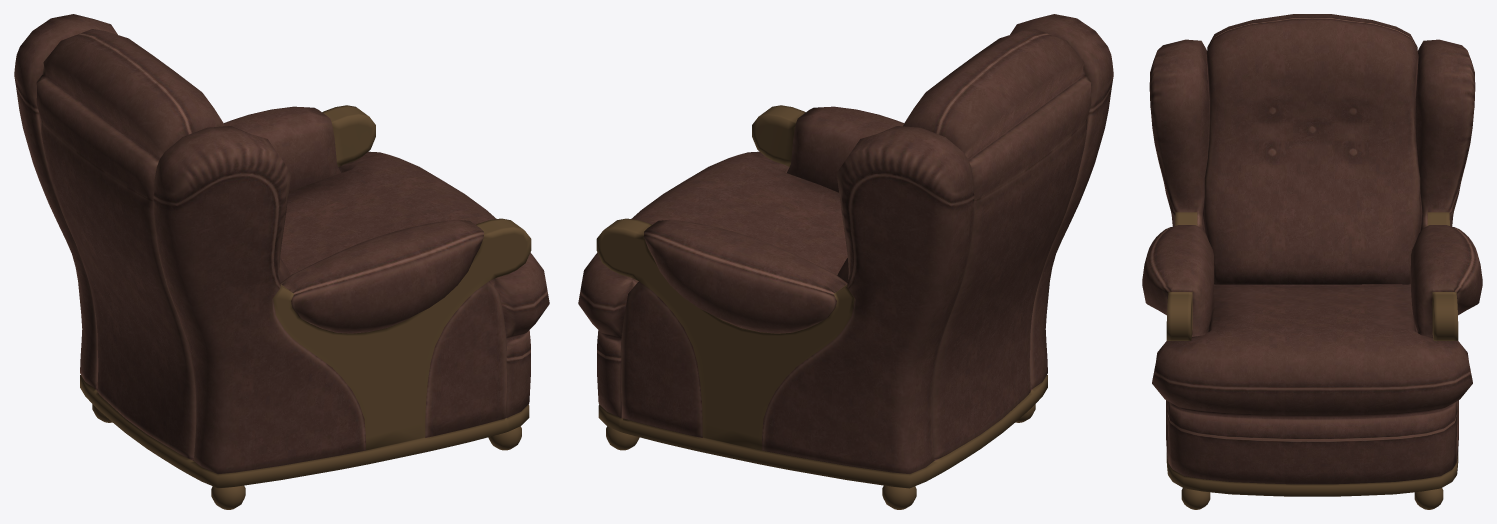
File: Sillon_LOD.fbx
The picture shows the model from 3 angles, left to right: view 1: azimuth 30°, elevation 25°; view 2: azimuth 150°, elevation 25°; view 3: azimuth 270°, elevation 25°; orthographic projection. The views are drawn at different scales.
Visible parts, largest first — view 1: Sillon_LOD0; view 2: Sillon_LOD0; view 3: Sillon_LOD0.
Boxes of the visible parts, x1=… form: Sillon_LOD0: x1=14, y1=14, x2=549, y2=509; Sillon_LOD0: x1=578, y1=14, x2=1113, y2=509; Sillon_LOD0: x1=1142, y1=14, x2=1482, y2=509.
Size of what is drawn, in the model's own units: 0.9352 by 0.941 by 0.8082.
